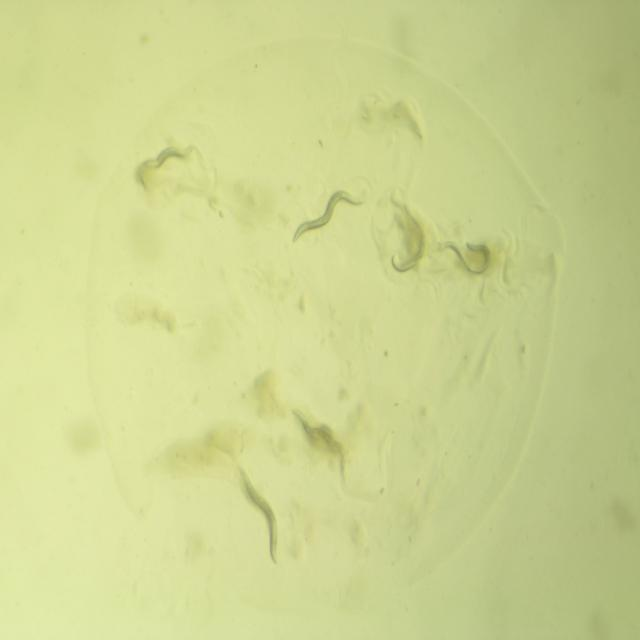worm: (229, 453, 288, 579), (284, 177, 374, 256), (289, 402, 352, 486), (130, 130, 200, 204), (383, 189, 433, 292), (432, 230, 501, 290)
